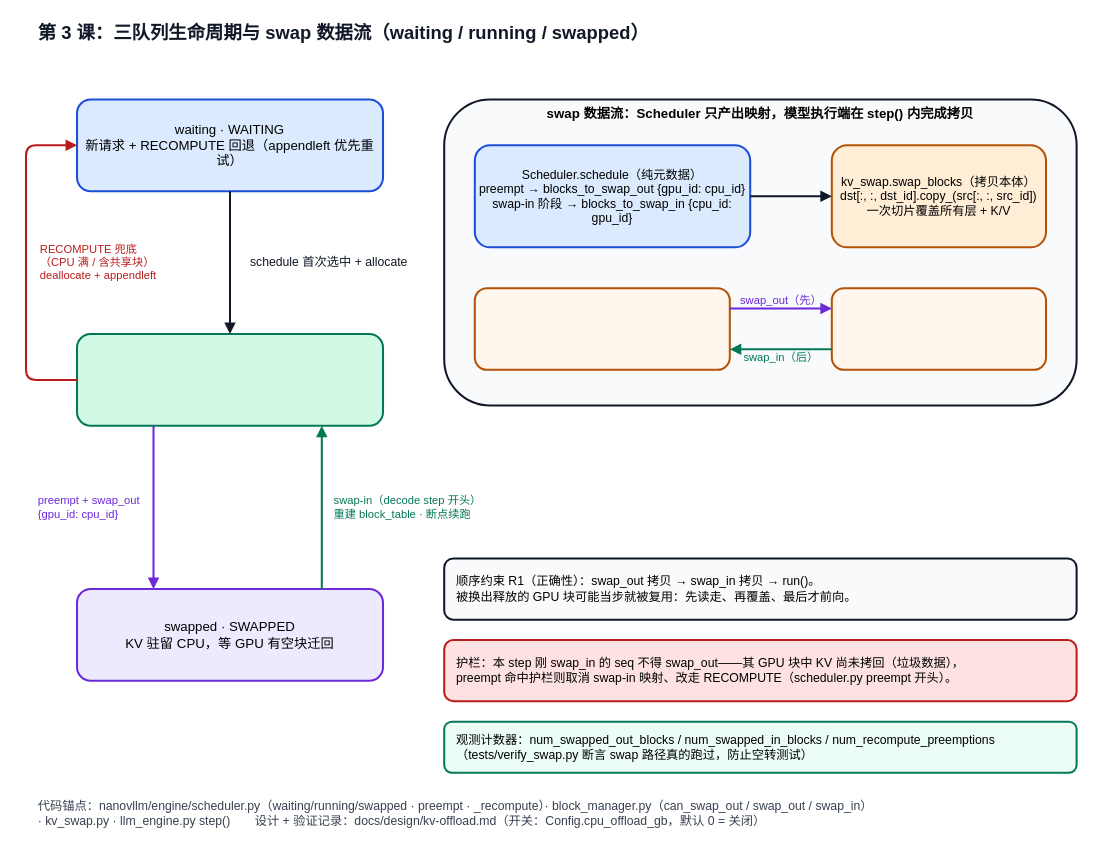
Image size: 1094x851. Some labels were removed from this diagram. The centre of each missing label's shape, as x and y in pixels:
"CPU cpu_kv_cache（pinned） 同布局镜像 · 不参与前缀缓存" goes at point (938, 328).
"GPU kv_cache 大张量 [2, L, num_blocks, block_size, kv_heads, head_dim]" goes at point (601, 328).
"running · RUNNING decode 每步 1 token（FIFO + extendleft）" goes at point (229, 379).
